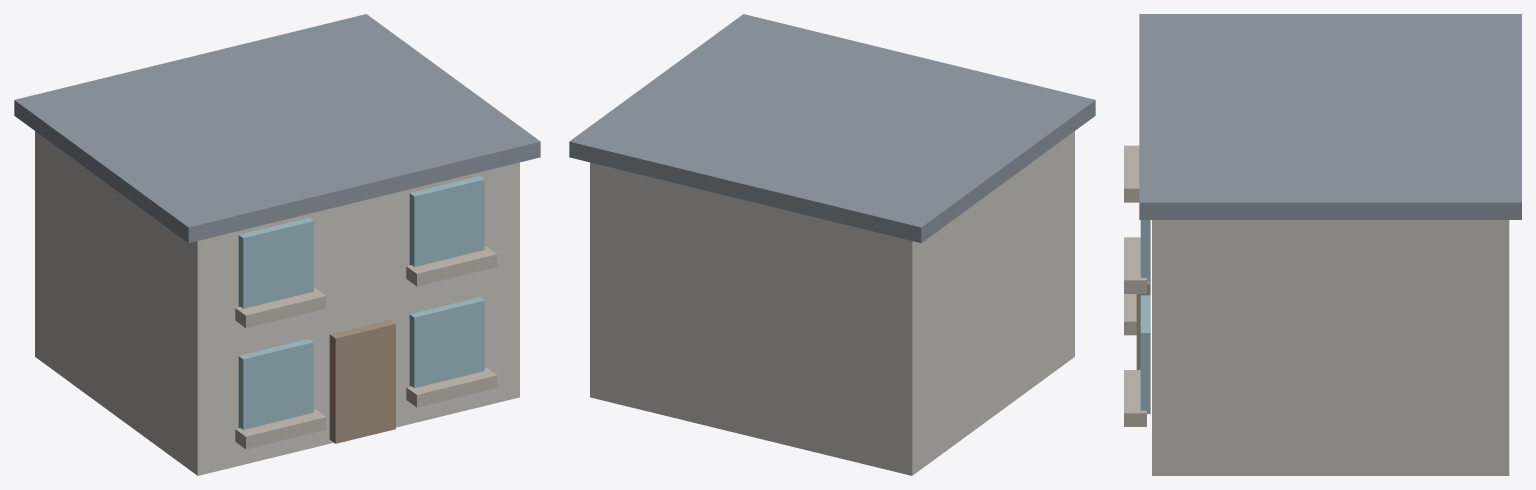
Rendered from home_small.glb.
3 views of the same model, side by side, from view 1: azimuth 30°, elevation 25°; view 2: azimuth 150°, elevation 25°; view 3: azimuth 270°, elevation 25° (orthographic). The views are drawn at different scales.
Size of the model in its own units: 3.5 by 2.43 by 3.12.
